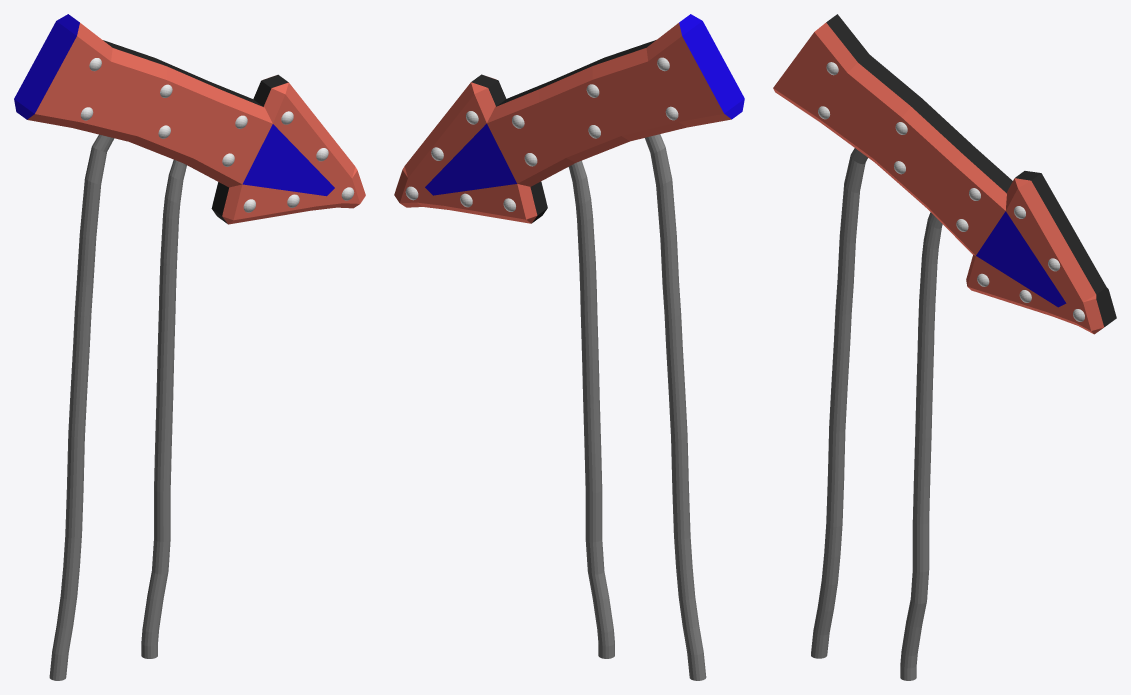
Rendered from Pointer.fbx.
The picture shows the model from 3 angles, left to right: view 1: azimuth 30°, elevation 25°; view 2: azimuth 150°, elevation 25°; view 3: azimuth 330°, elevation 25°; orthographic projection. The views are drawn at different scales.
Visible parts, largest first — view 1: Pointer; view 2: Pointer; view 3: Pointer.
Part boxes in pixels (<box>): Pointer: <box>14,14,365,680</box>; Pointer: <box>394,14,744,680</box>; Pointer: <box>773,14,1116,680</box>.
Size of the model in its own units: 88.56 by 165 by 11.2.
